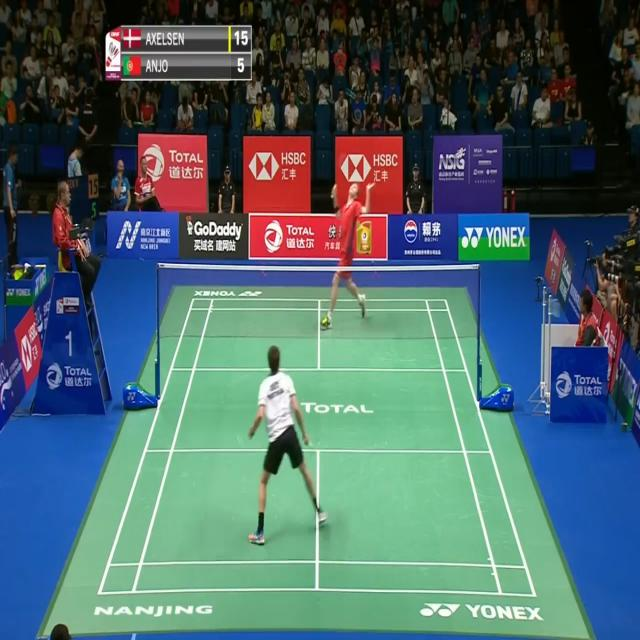Player1: (235, 339, 333, 550)
Player2: (315, 170, 381, 330)
